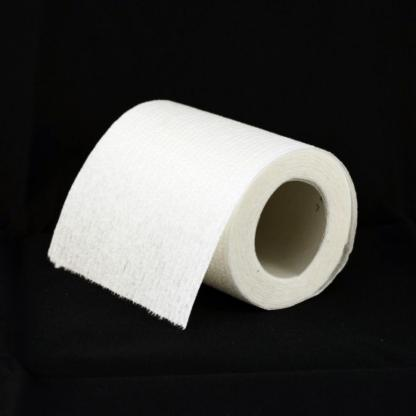tissue: (45, 93, 363, 348)
